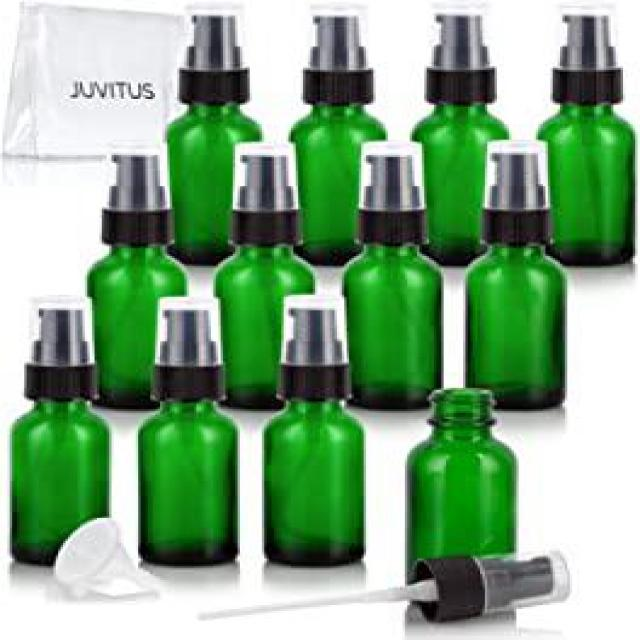non-organic waste: (131, 293, 245, 570)
